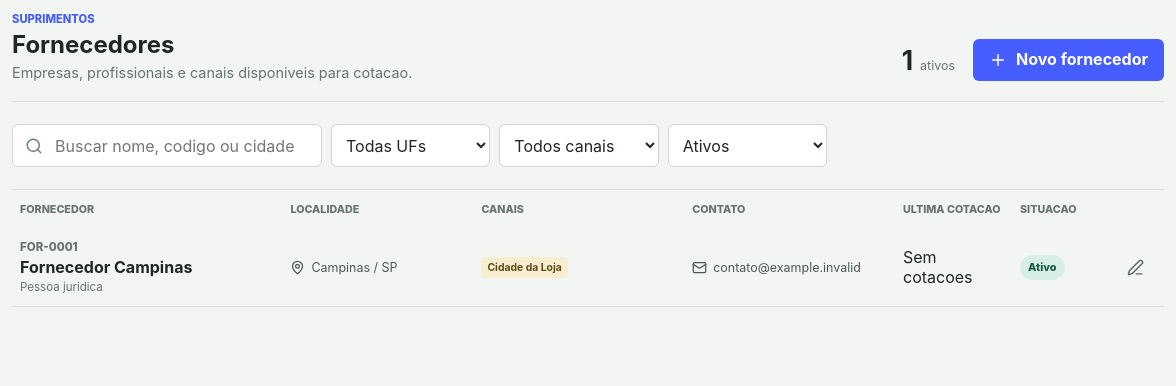
SuppliersPage › lista e filtra fornecedores por canal
expect the text "Fornecedor Campinas" is shown: met, box [20,257,192,277]
Select "E-commerce" in the dropdown named "Filtrar canal": (579, 146) [499,124,659,167]
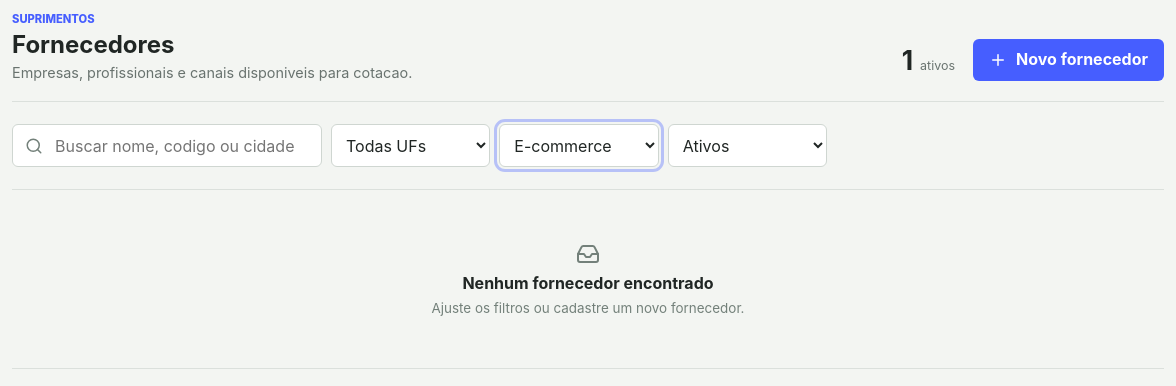
expect the text "Fornecedor Campinas" is gone: met
